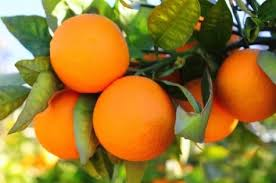orange: (91, 76, 176, 160), (49, 18, 130, 90), (31, 92, 95, 161), (217, 48, 275, 122), (176, 79, 239, 142)
